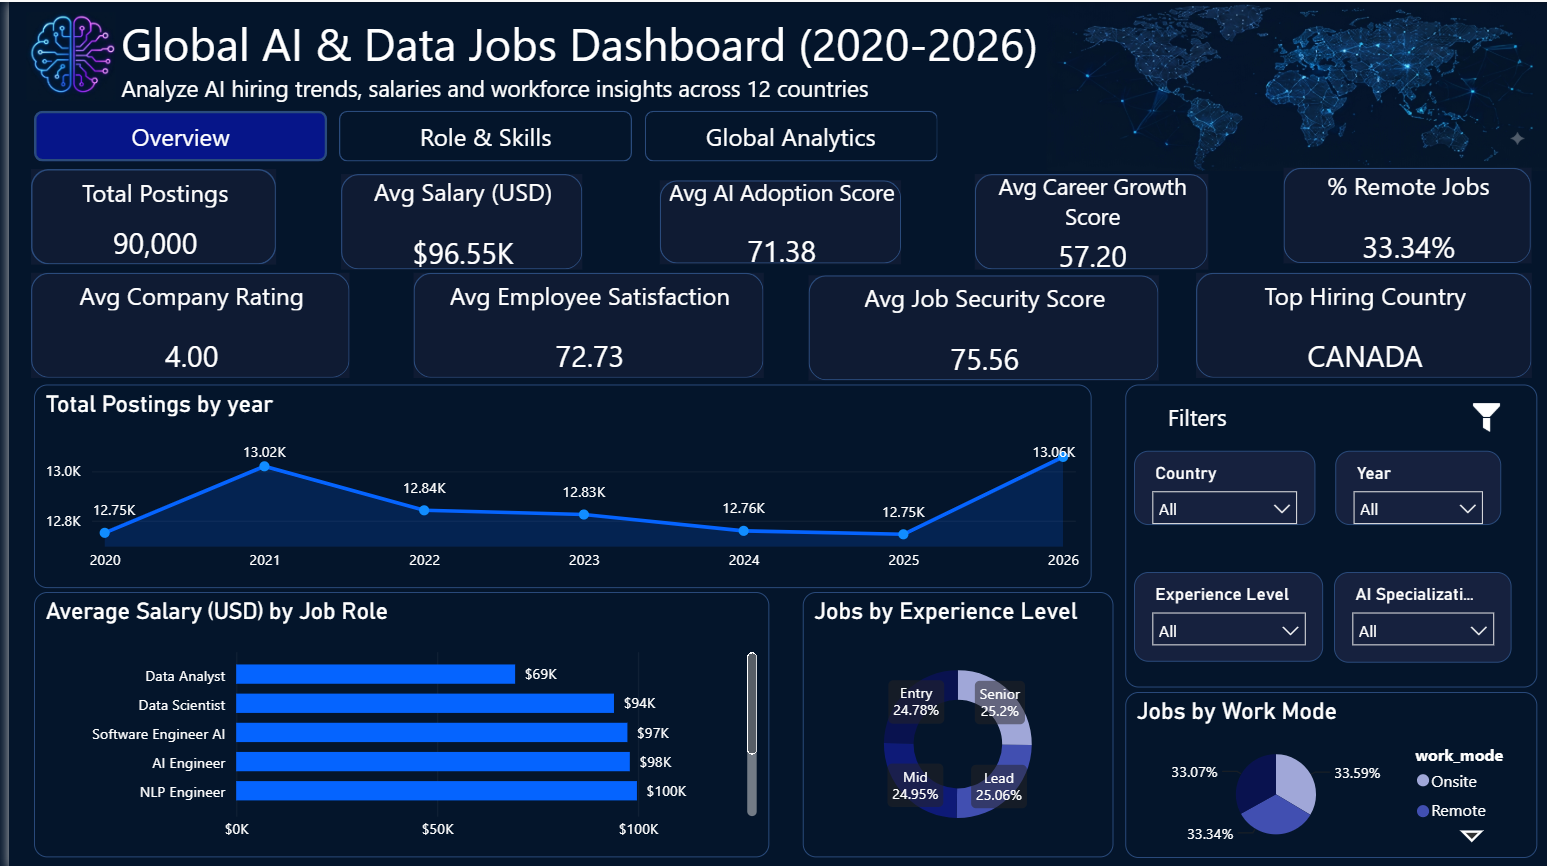

This screenshot's page, from the dashboard's own definition file:
{"tool":"powerbi","page":{"name":"Overview","canvas":[1280,720],"ordinal":0},"visuals":[{"type":"image","box":[0,8.1,105.8,73.3],"z":0},{"type":"textbox","box":[88.4,4.7,884.9,86],"z":1000},{"type":"image","box":[860.5,0,419.8,144.2],"z":2000},{"type":"pageNavigator","box":[21.2,90.4,1258.4,42.4],"z":3000},{"type":"cardVisual","fields":{"Data":["global_ai_jobs.Total Postings"]},"box":[13.4,134,214,89.5],"z":4000},{"type":"cardVisual","fields":{"Data":["global_ai_jobs.Avg Salary"]},"box":[270.2,137.3,210.5,89.5],"z":5000},{"type":"cardVisual","fields":{"Data":["global_ai_jobs.Avg AI Adoption Score"]},"box":[534.9,142.9,210.5,79.1],"z":7000},{"type":"cardVisual","fields":{"Data":["global_ai_jobs.Avg Career Growth Score"]},"box":[796.2,137.3,203.5,89.5],"z":8000},{"type":"cardVisual","fields":{"Data":["global_ai_jobs.% Remote Jobs"]},"box":[1051.9,132.9,215.1,89.5],"z":9000},{"type":"lineChart","fields":{"Category":["global_ai_jobs.year"],"Y":["global_ai_jobs.Total Postings"]},"box":[21.2,317.1,876.6,168.6],"z":10000},{"type":"shape","box":[925.7,317.1,341.9,251.2],"z":11000},{"type":"textbox","box":[960.3,331.6,61.6,34.9],"z":12000},{"type":"image","box":[1203.7,331.6,41.9,25.6],"z":13000},{"type":"slicer","fields":{"Values":["global_ai_jobs.year"]},"box":[1099.9,371.8,137.2,61.6],"z":14000},{"type":"slicer","fields":{"Values":["global_ai_jobs.country"]},"box":[932.4,371.8,150,61.6],"z":15000},{"type":"slicer","fields":{"Values":["global_ai_jobs.experience_level"]},"box":[932.4,472.3,157,74.4],"z":16000},{"type":"slicer","fields":{"Values":["global_ai_jobs.experience_level"]},"box":[1098.8,472.3,147.4,74.8],"z":17000},{"type":"barChart","title":"Average Salary (USD) by Job Role","fields":{"Category":["global_ai_jobs.job_role"],"Y":["global_ai_jobs.Avg Salary (USD)"]},"box":[21.2,489.1,609.7,220],"z":18000},{"type":"donutChart","title":"Jobs by Experience Level","fields":{"Y":["global_ai_jobs.Total Postings"],"Category":["global_ai_jobs.experience_level"]},"box":[657.7,489.1,257.9,220],"z":19000},{"type":"pieChart","title":"Jobs by Work Mode","fields":{"Category":["global_ai_jobs.work_mode"],"Y":["global_ai_jobs.Total Postings"]},"box":[925.7,571.7,341.7,137.3],"z":20000},{"type":"cardVisual","fields":{"Data":["global_ai_jobs.Avg Company Rating"]},"box":[13.4,220,274.7,97.1],"z":21000},{"type":"cardVisual","fields":{"Data":["global_ai_jobs.Avg Employee Satisfaction"]},"box":[330.5,220,300,97.7],"z":22000},{"type":"cardVisual","fields":{"Data":["global_ai_jobs.Avg Job Security Score"]},"box":[657.7,222.2,300,97.7],"z":23000},{"type":"cardVisual","fields":{"Data":["global_ai_jobs.Top Hiring Country"]},"box":[979.3,220,288.1,97.1],"z":24000}]}

Visuals, with their boxes in screenshot pixels (x1, y1, x2, y2), scaled from the page's 1280x720 canvas onto the 1547x866 screenshot:
image: x1=0 y1=10 x2=128 y2=98
textbox: x1=107 y1=6 x2=1176 y2=109
image: x1=1040 y1=0 x2=1546 y2=173
pageNavigator: x1=26 y1=109 x2=1546 y2=160
cardVisual - global_ai_jobs.Total Postings: x1=16 y1=161 x2=275 y2=269
cardVisual - global_ai_jobs.Avg Salary: x1=327 y1=165 x2=581 y2=273
cardVisual - global_ai_jobs.Avg AI Adoption Score: x1=646 y1=172 x2=901 y2=267
cardVisual - global_ai_jobs.Avg Career Growth Score: x1=962 y1=165 x2=1208 y2=273
cardVisual - global_ai_jobs.% Remote Jobs: x1=1271 y1=160 x2=1531 y2=267
lineChart - global_ai_jobs.year x global_ai_jobs.Total Postings: x1=26 y1=381 x2=1085 y2=584
shape: x1=1119 y1=381 x2=1532 y2=684
textbox: x1=1161 y1=399 x2=1235 y2=441
image: x1=1455 y1=399 x2=1505 y2=430
slicer - global_ai_jobs.year: x1=1329 y1=447 x2=1495 y2=521
slicer - global_ai_jobs.country: x1=1127 y1=447 x2=1308 y2=521
slicer - global_ai_jobs.experience_level: x1=1127 y1=568 x2=1317 y2=658
slicer - global_ai_jobs.experience_level: x1=1328 y1=568 x2=1506 y2=658
"Average Salary (USD) by Job Role" barChart: x1=26 y1=588 x2=763 y2=853
"Jobs by Experience Level" donutChart: x1=795 y1=588 x2=1107 y2=853
"Jobs by Work Mode" pieChart: x1=1119 y1=688 x2=1532 y2=853
cardVisual - global_ai_jobs.Avg Company Rating: x1=16 y1=265 x2=348 y2=381
cardVisual - global_ai_jobs.Avg Employee Satisfaction: x1=399 y1=265 x2=762 y2=382
cardVisual - global_ai_jobs.Avg Job Security Score: x1=795 y1=267 x2=1157 y2=385
cardVisual - global_ai_jobs.Top Hiring Country: x1=1184 y1=265 x2=1532 y2=381
